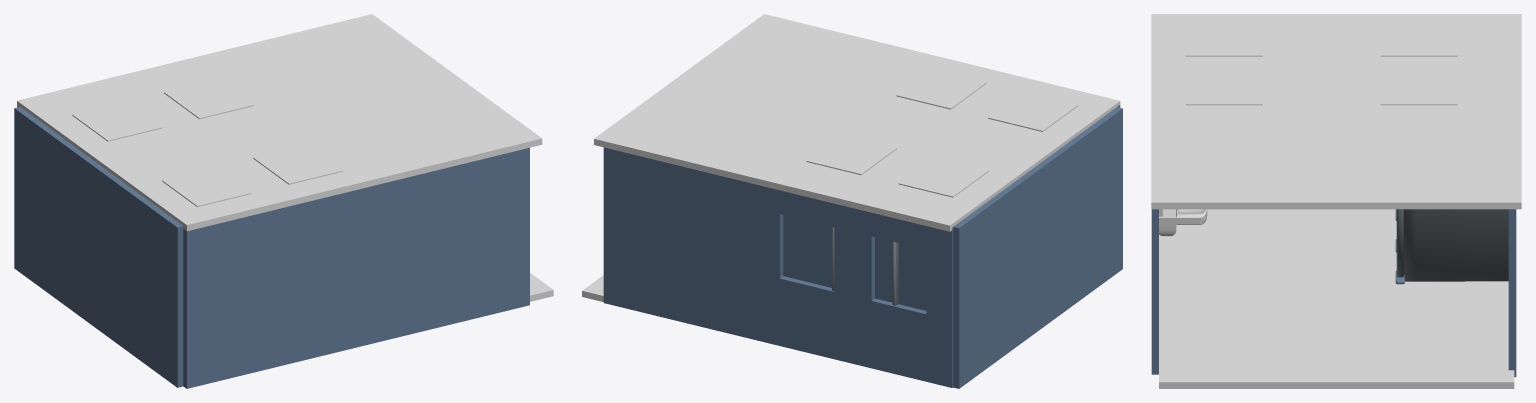
The model's file is uploads_files_2761014_Bathroom.fbx.
3 views of the same model, side by side, from view 1: azimuth 30°, elevation 25°; view 2: azimuth 150°, elevation 25°; view 3: azimuth 270°, elevation 25° (orthographic). The views are drawn at different scales.
Visible parts, largest first — view 1: Cube.001, Cube.030, Cube.002, Cube.031; view 2: Cube.030, Cube.029, Cube.002, Cube.031; view 3: Cube.030, Cube.028, Cube, Cube.031, Cube.014, Cube.029, Cube.001, Cube.007, Cube.013.
Boxes of the visible parts, bbox=[...] form: Cube.001: bbox=[183, 147, 529, 388]; Cube.030: bbox=[17, 14, 542, 231]; Cube.002: bbox=[14, 107, 183, 387]; Cube.031: bbox=[72, 79, 343, 206]; Cube.030: bbox=[594, 14, 1120, 231]; Cube.029: bbox=[603, 147, 953, 387]; Cube.002: bbox=[953, 107, 1122, 388]; Cube.031: bbox=[806, 69, 1078, 197]; Cube.030: bbox=[1151, 14, 1521, 209]; Cube.028: bbox=[1159, 284, 1514, 388]; Cube: bbox=[1159, 209, 1508, 283]; Cube.031: bbox=[1185, 26, 1457, 105]; Cube.014: bbox=[1404, 209, 1508, 281]; Cube.029: bbox=[1508, 209, 1516, 377]; Cube.001: bbox=[1151, 209, 1158, 374]; Cube.007: bbox=[1159, 209, 1207, 236]; Cube.013: bbox=[1396, 209, 1403, 277].
Size of the model in its own units: 383 by 161 by 300.
